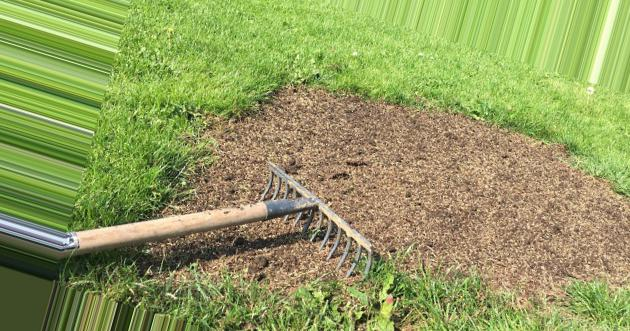patch: (299, 115, 393, 184), (490, 182, 572, 255), (372, 179, 475, 224), (420, 148, 473, 219)
